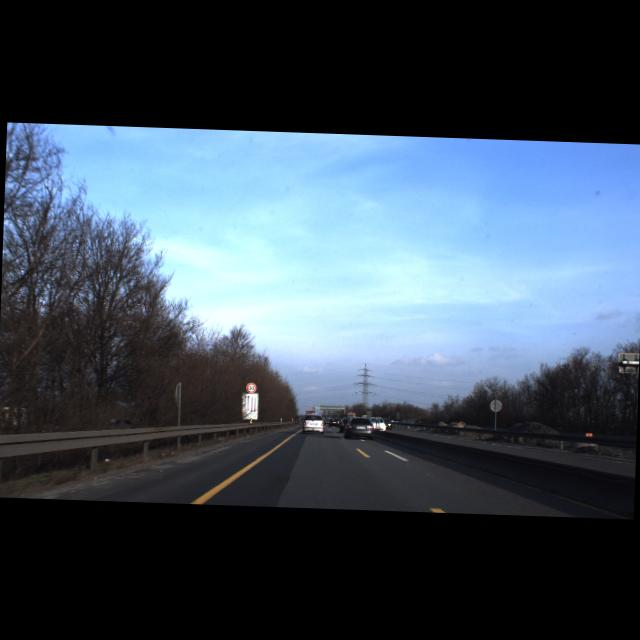prohibitory: (246, 382, 256, 392)
